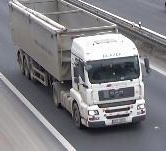truck: (7, 0, 153, 132)
